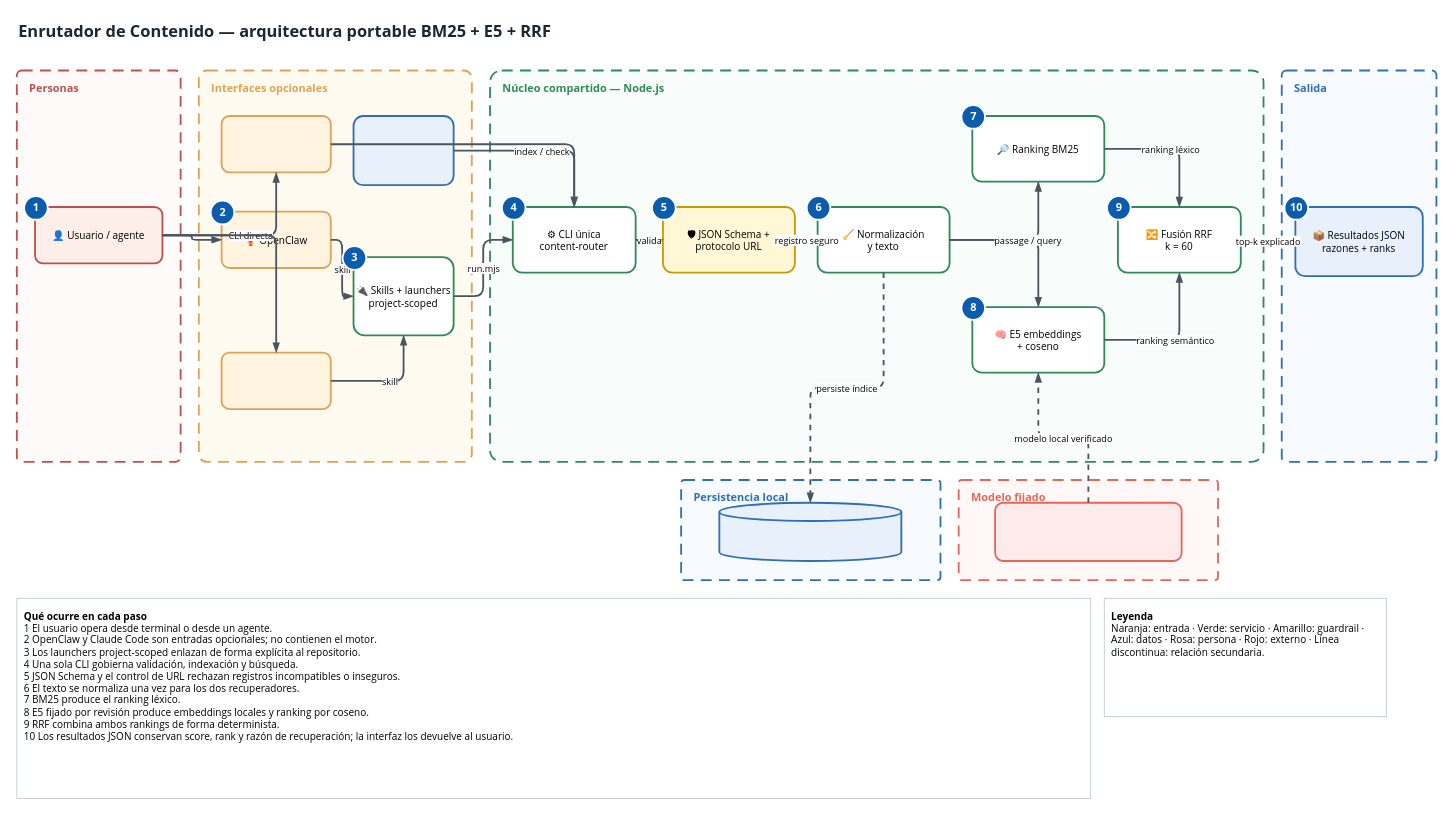
Image size: 1452x814. Some labels were removed from this diagram. Each missing label, with the centre of its shape:
"⌨ Terminal" belongs at (x=275, y=144).
"◆ Claude Code" belongs at (x=275, y=380).
"🗄 Índice JSON local texto + vectores" belongs at (x=810, y=531).
"🤗 Hugging Face · E5 revisión fijada" belongs at (x=1088, y=531).
"🧾 Registros JSON propios o sintéticos" belongs at (x=403, y=150).
